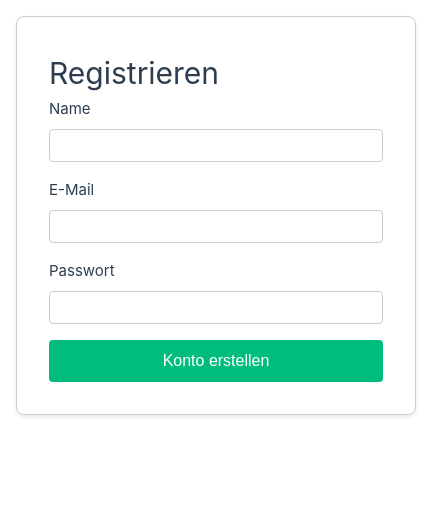
Test case: RegisterView.vue › sollte authStore.register aufrufen, wenn das Formular abgeschickt wird
The width and height of the screenshot is (433, 524).
Type "myName" into the field labelled "Name" at (216, 146), box [49,129,383,162]
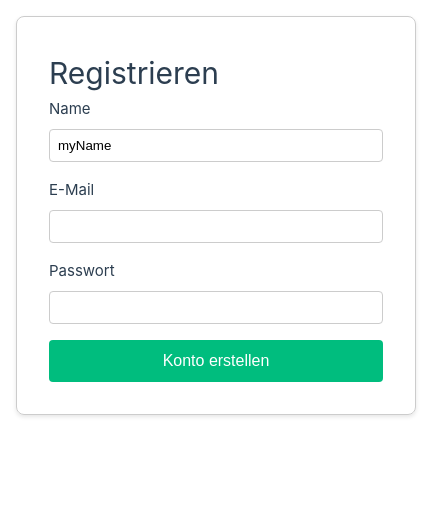
Type "test@test.com" into the field labelled "E-Mail" at (216, 226), box [49,210,383,243]
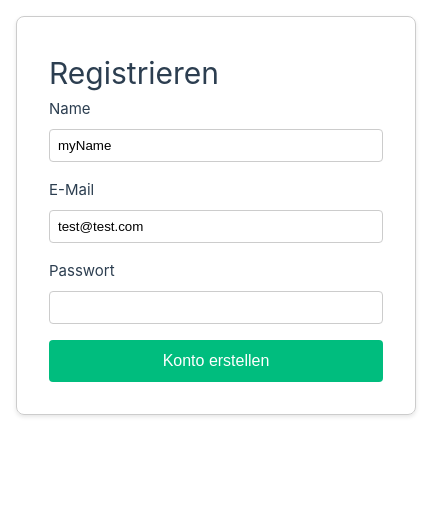
Type "password" into the password field labelled "Passwort" at (216, 308), box [49,291,383,324]
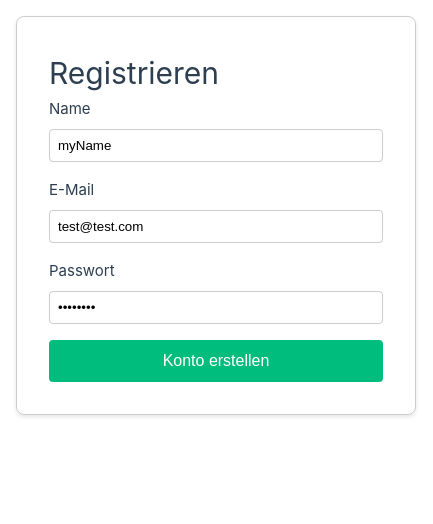
Submit the form, box [49,97,383,382]
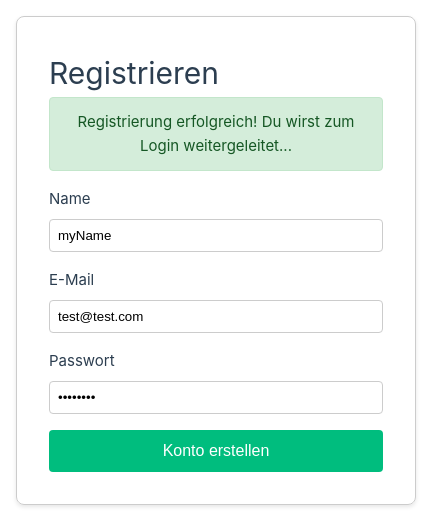
Now the text with class "success-message" is shown, box [49,97,383,171]
Now the text with class "success-message" shows "Registrierung erfolgreich", box [78,112,354,155]
